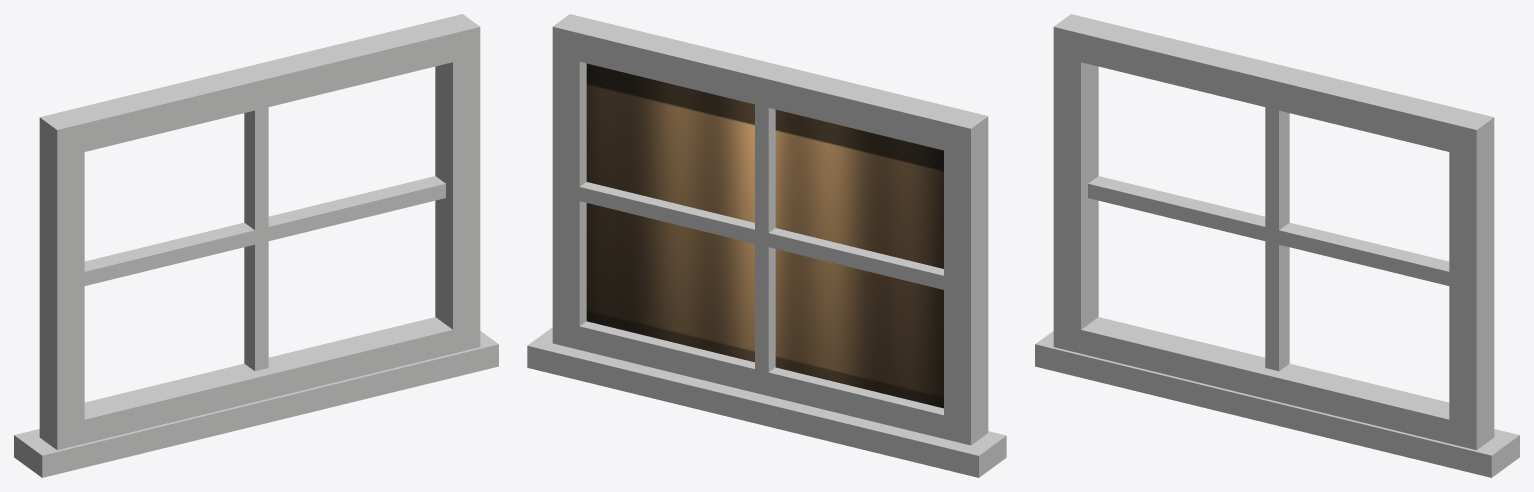
Rendered from WK_WND_WindowLit.glb.
The picture shows the model from 3 angles, left to right: view 1: azimuth 30°, elevation 25°; view 2: azimuth 150°, elevation 25°; view 3: azimuth 330°, elevation 25°; orthographic projection.
Visible parts, largest first — view 1: WK_WND_WindowLit_P04, WK_WND_WindowLit_P03, WK_WND_WindowLit_P01, WK_WND_WindowLit_P02, WK_WND_WindowLit_P05, WK_WND_WindowLit_P08, WK_WND_WindowLit_P07; view 2: WK_WND_WindowLit_P06, WK_WND_WindowLit_P04, WK_WND_WindowLit_P05, WK_WND_WindowLit_P01, WK_WND_WindowLit_P03, WK_WND_WindowLit_P02, WK_WND_WindowLit_P08, WK_WND_WindowLit_P07; view 3: WK_WND_WindowLit_P04, WK_WND_WindowLit_P03, WK_WND_WindowLit_P02, WK_WND_WindowLit_P01, WK_WND_WindowLit_P05, WK_WND_WindowLit_P08, WK_WND_WindowLit_P07.
Boxes of the visible parts, bbox=[...] form: WK_WND_WindowLit_P04: bbox=[39, 14, 480, 158]; WK_WND_WindowLit_P03: bbox=[39, 317, 480, 450]; WK_WND_WindowLit_P01: bbox=[39, 123, 84, 449]; WK_WND_WindowLit_P02: bbox=[435, 30, 480, 353]; WK_WND_WindowLit_P05: bbox=[14, 331, 498, 477]; WK_WND_WindowLit_P08: bbox=[84, 176, 445, 285]; WK_WND_WindowLit_P07: bbox=[244, 107, 268, 371]; WK_WND_WindowLit_P06: bbox=[586, 63, 943, 408]; WK_WND_WindowLit_P04: bbox=[553, 14, 988, 156]; WK_WND_WindowLit_P05: bbox=[527, 327, 1006, 477]; WK_WND_WindowLit_P01: bbox=[944, 122, 988, 445]; WK_WND_WindowLit_P03: bbox=[553, 320, 988, 445]; WK_WND_WindowLit_P02: bbox=[552, 27, 586, 349]; WK_WND_WindowLit_P08: bbox=[579, 182, 943, 289]; WK_WND_WindowLit_P07: bbox=[755, 103, 775, 373]; WK_WND_WindowLit_P04: bbox=[1053, 14, 1494, 158]; WK_WND_WindowLit_P03: bbox=[1053, 317, 1494, 450]; WK_WND_WindowLit_P02: bbox=[1449, 123, 1494, 445]; WK_WND_WindowLit_P01: bbox=[1053, 27, 1098, 353]; WK_WND_WindowLit_P05: bbox=[1035, 331, 1519, 477]; WK_WND_WindowLit_P08: bbox=[1088, 176, 1449, 285]; WK_WND_WindowLit_P07: bbox=[1265, 107, 1289, 371].
Size of the model in its own units: 1.5 by 1.08 by 0.16.
2 materials, 1 textured.
